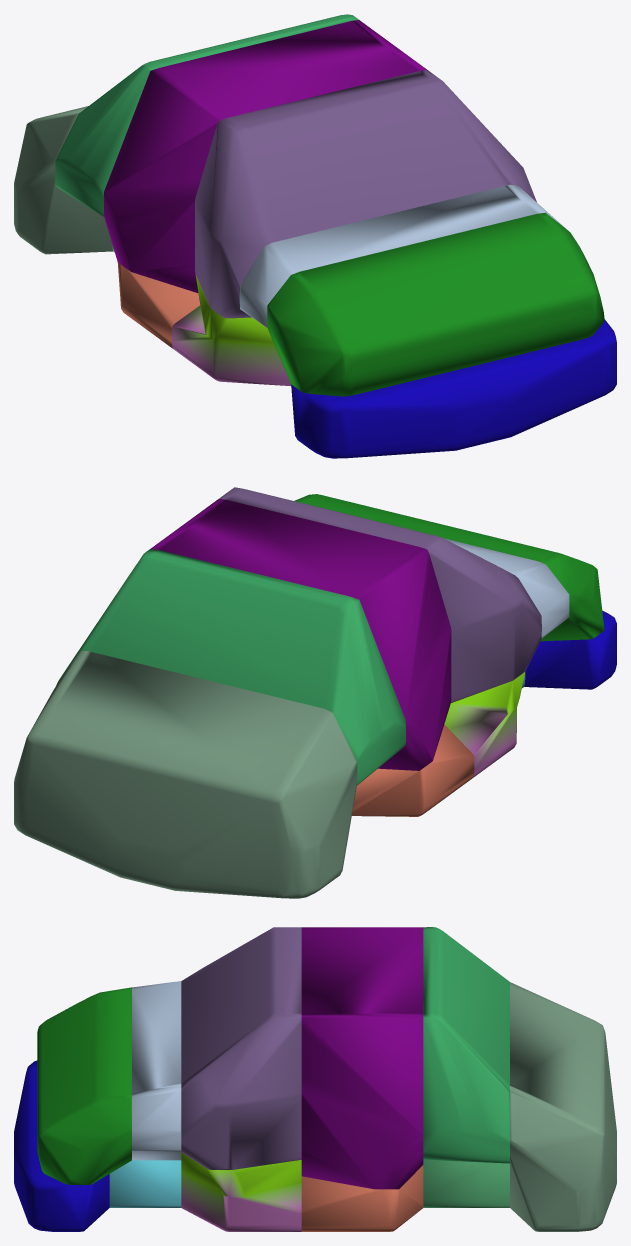
Rendered from sedan-sports-bodyandspoiler-output1-s.obj.
The picture shows the model from 3 angles, top to bottom: view 1: azimuth 30°, elevation 25°; view 2: azimuth 150°, elevation 25°; view 3: azimuth 270°, elevation 25°; orthographic projection. The views are drawn at different scales.
Size of the model in its own units: 1.33 by 0.9782 by 2.58.
